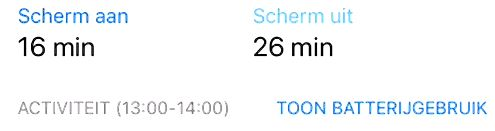activity: (10, 96, 237, 123)
